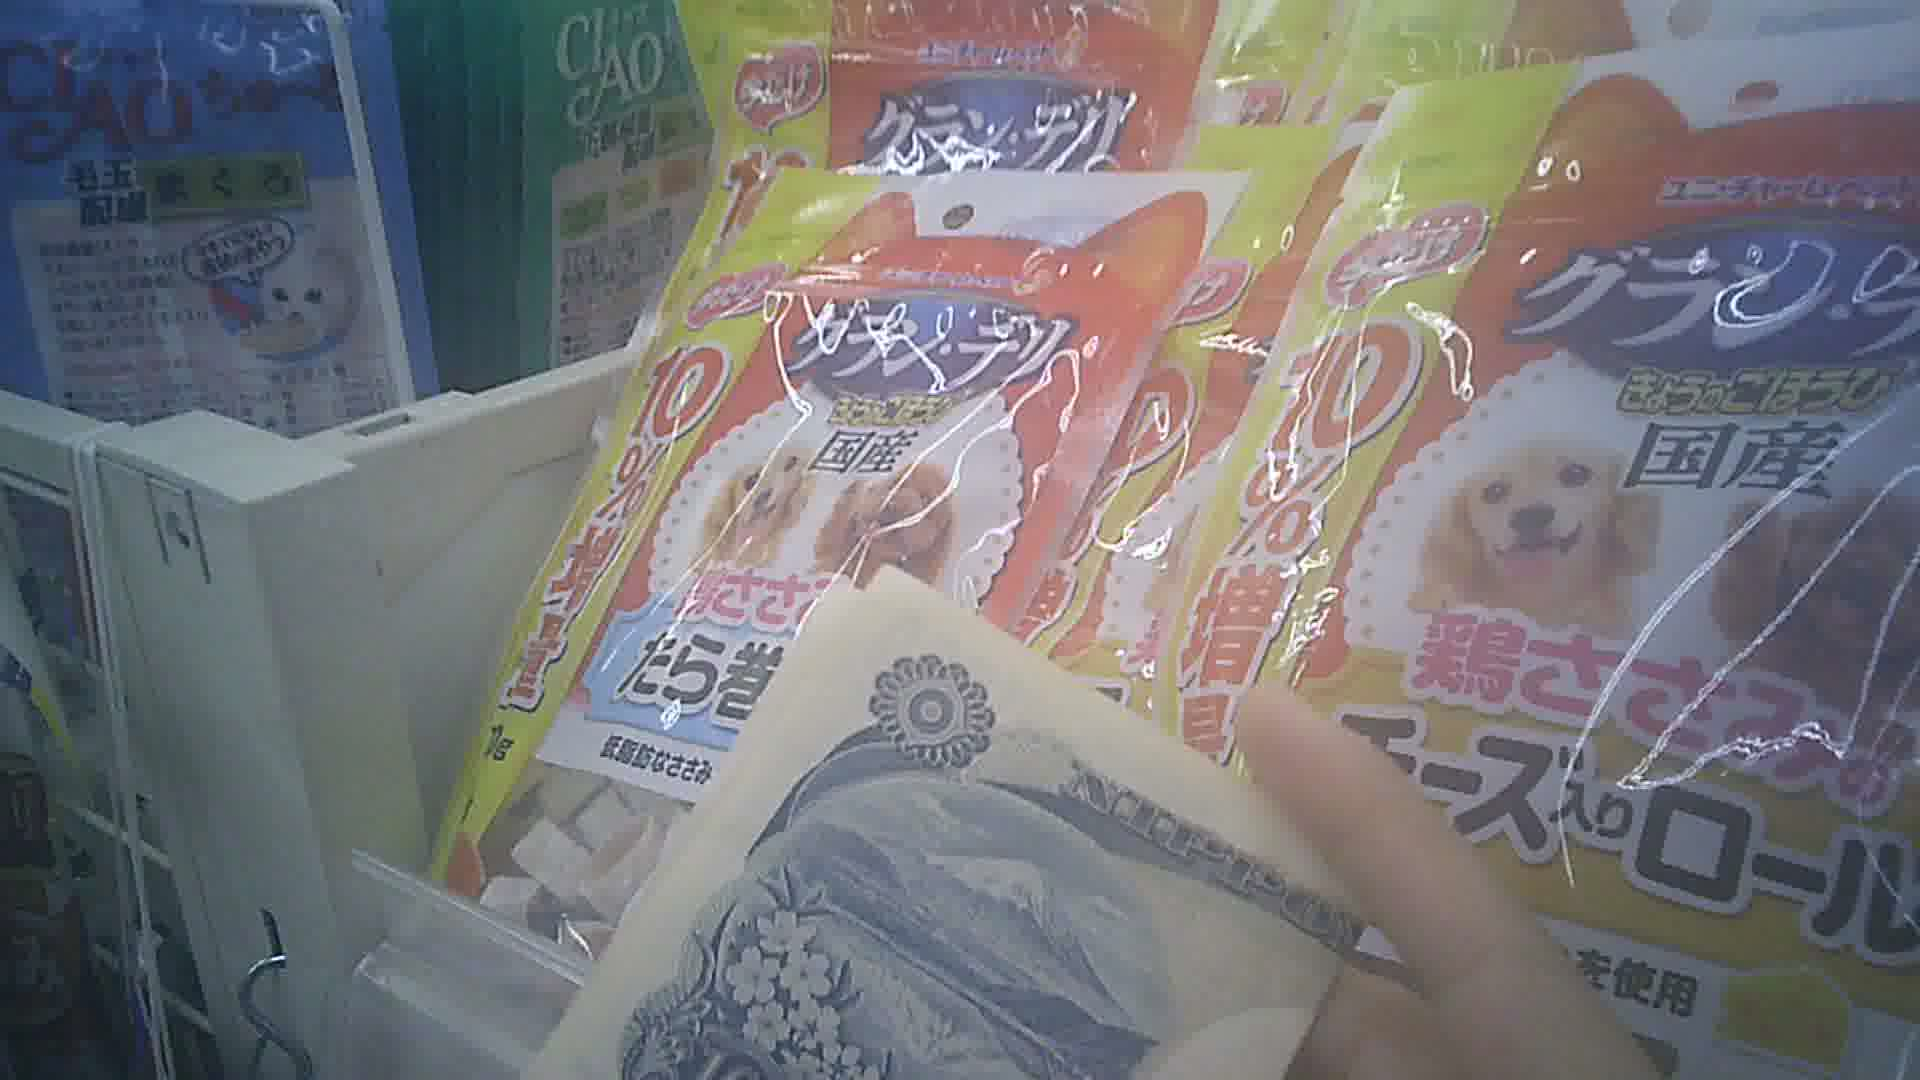1,000 Yen: (564, 579, 1400, 1079)
